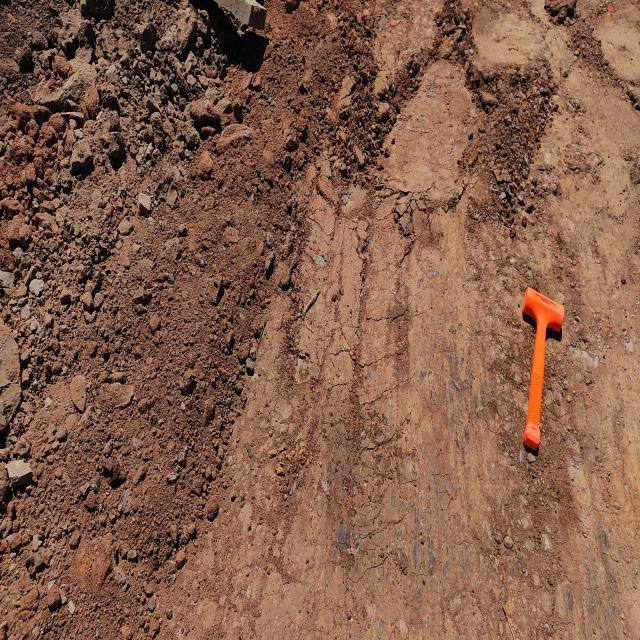Orange_hammer: (521, 286, 564, 454)
